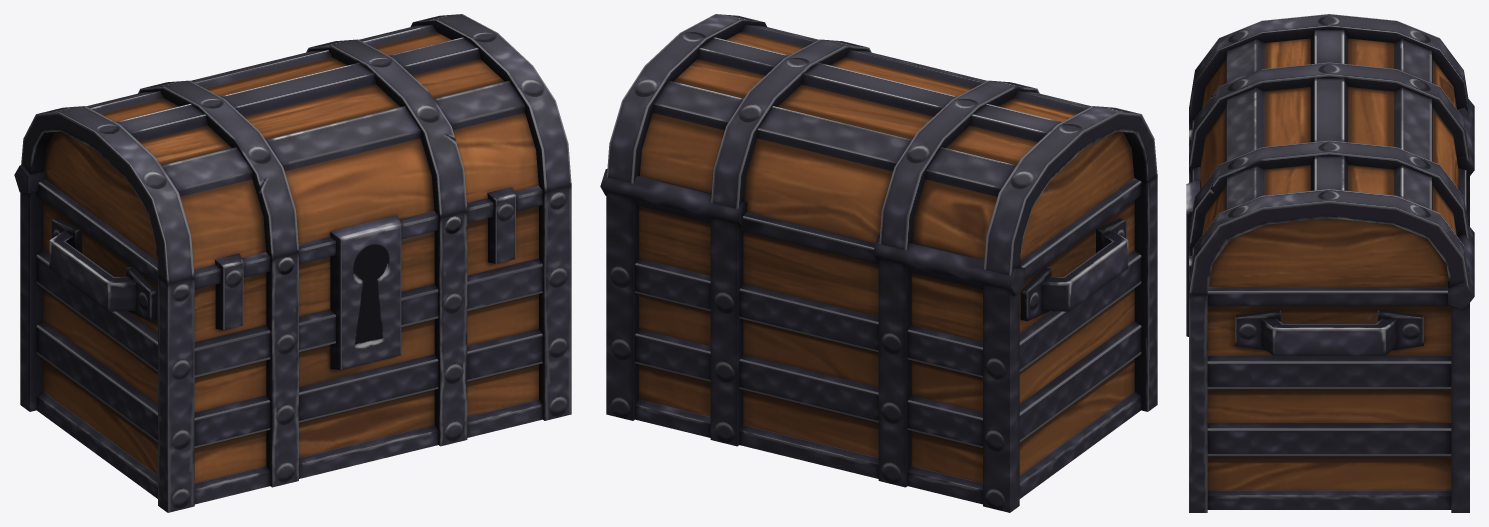
File: chestDiablo.FBX
3 views of the same model, side by side, from view 1: azimuth 30°, elevation 25°; view 2: azimuth 150°, elevation 25°; view 3: azimuth 270°, elevation 25° (orthographic). The views are drawn at different scales.
Visible parts, largest first — view 1: chestDiablo, chestDiablo_cap; view 2: chestDiablo, chestDiablo_cap; view 3: chestDiablo_cap, chestDiablo.
Boxes of the visible parts, x1,y1,x2,y2 form: chestDiablo: (14,164,571,512); chestDiablo_cap: (21,14,571,283); chestDiablo: (600,169,1157,512); chestDiablo_cap: (607,14,1157,275); chestDiablo_cap: (1189,14,1468,295); chestDiablo: (1186,99,1474,512).
Size of the model in its own units: 129 by 93.01 by 78.03.
